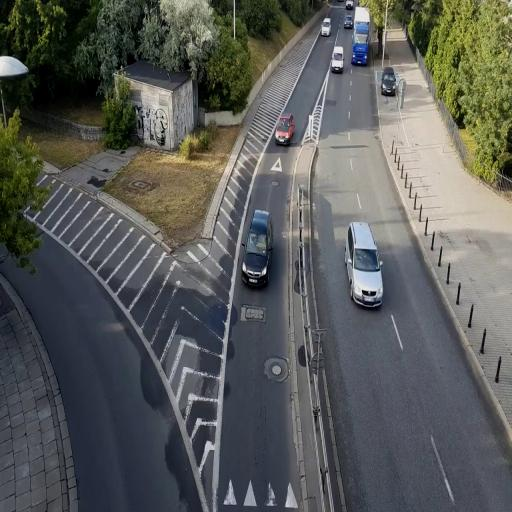vehicle: (344, 220, 384, 310), (242, 209, 272, 287), (352, 12, 370, 66), (381, 69, 398, 96), (331, 45, 344, 73), (343, 13, 355, 30), (321, 18, 331, 36)
